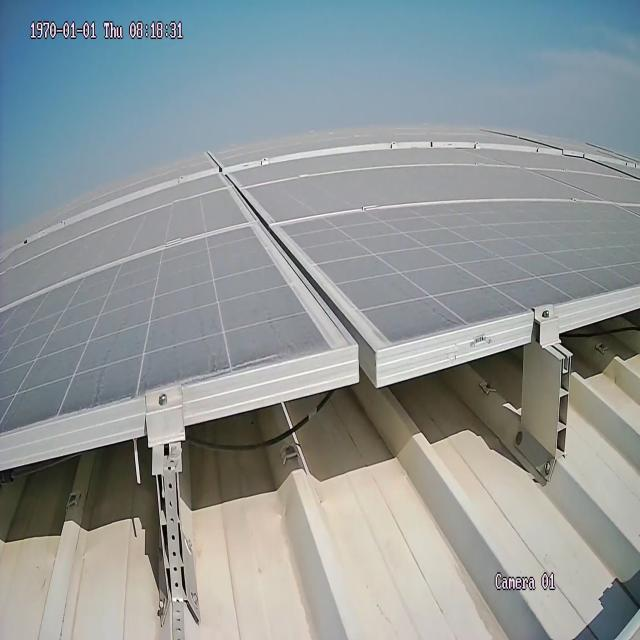interior panel: (219, 173, 380, 338)
outher panel: (0, 281, 640, 640)
